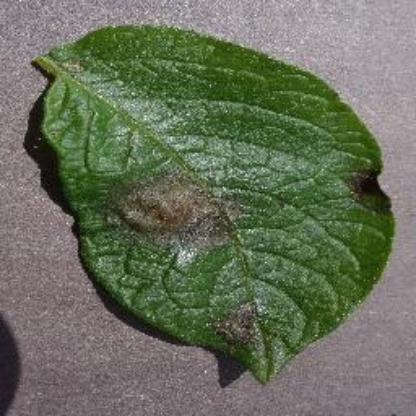Late-Blight: (22, 19, 398, 386)
